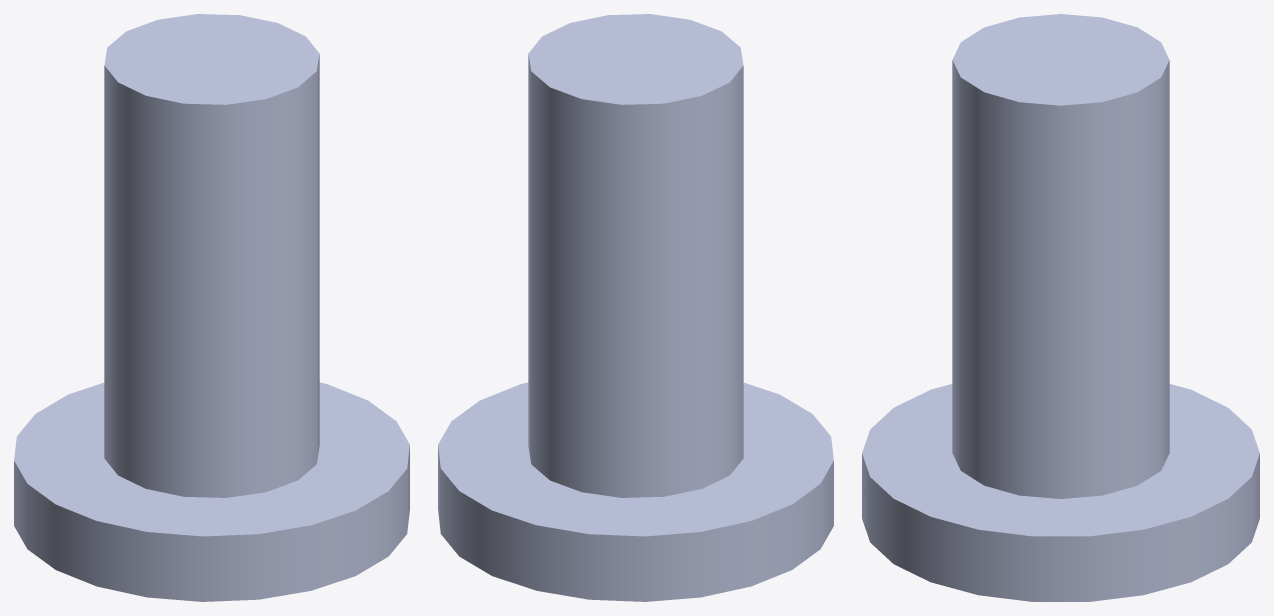
The model's file is leg_left_krs__M3x6_horn_lowhead_1.dae.
3 renders of one model, left to right at view 1: azimuth 30°, elevation 25°; view 2: azimuth 150°, elevation 25°; view 3: azimuth 270°, elevation 25°, orthographic.
Visible parts, largest first — view 1: node0; view 2: node0; view 3: node0.
Part boxes in pixels (x1,y1,x2,y2): node0: (14, 14, 409, 601); node0: (438, 14, 833, 601); node0: (862, 14, 1259, 601).
Bounding box in the file's own units: 0.00544 × 0.007 × 0.0055.
